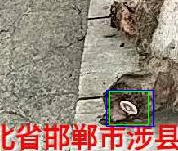text: (109, 91, 148, 124)
